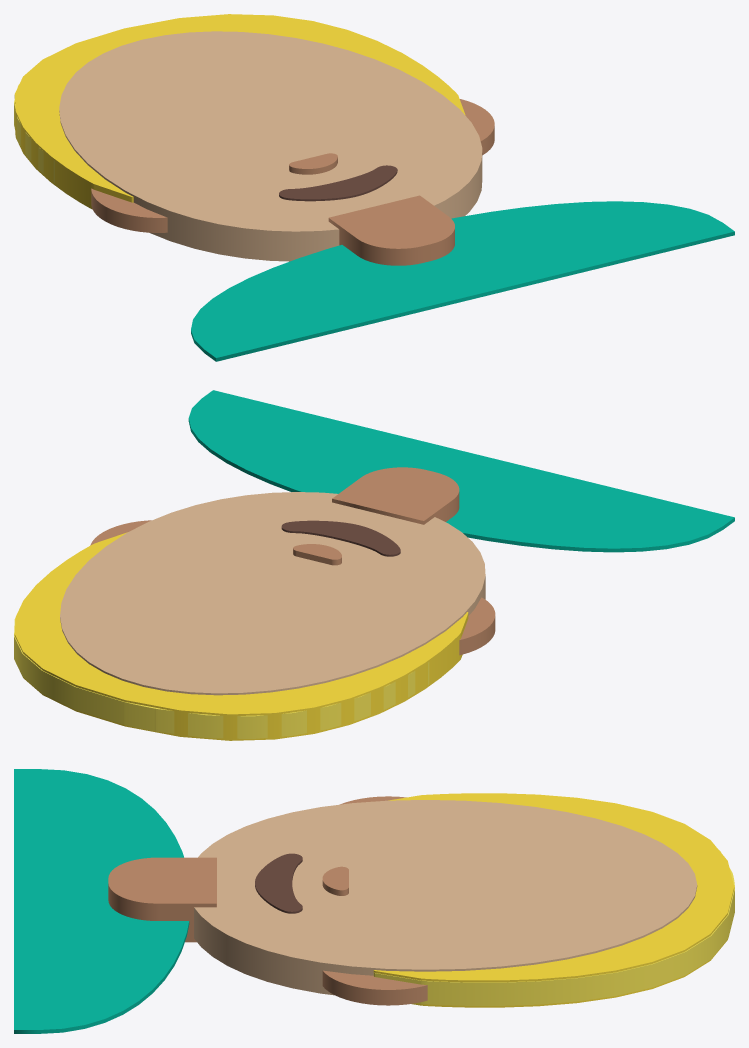
File: emoji_u1f471_1f3fc_200d_2642.glb
3 renders of one model, top to bottom at view 1: azimuth 30°, elevation 25°; view 2: azimuth 150°, elevation 25°; view 3: azimuth 270°, elevation 25°, orthographic. The views are drawn at different scales.
Visible parts, largest first — view 1: emoji_u1f471_1f3fc_200d_2642; view 2: emoji_u1f471_1f3fc_200d_2642; view 3: emoji_u1f471_1f3fc_200d_2642.
Part boxes in pixels (x1,y1,x2,y2): emoji_u1f471_1f3fc_200d_2642: (14,14,734,361); emoji_u1f471_1f3fc_200d_2642: (14,390,734,740); emoji_u1f471_1f3fc_200d_2642: (14,769,734,1033).
Size of the model in its own units: 0.0289 by 0.0022 by 0.0337.
